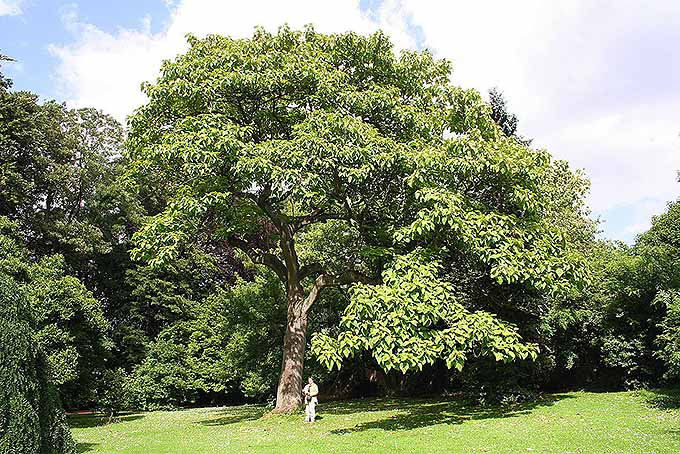grass: (71, 394, 678, 448)
tree: (273, 276, 309, 412)
